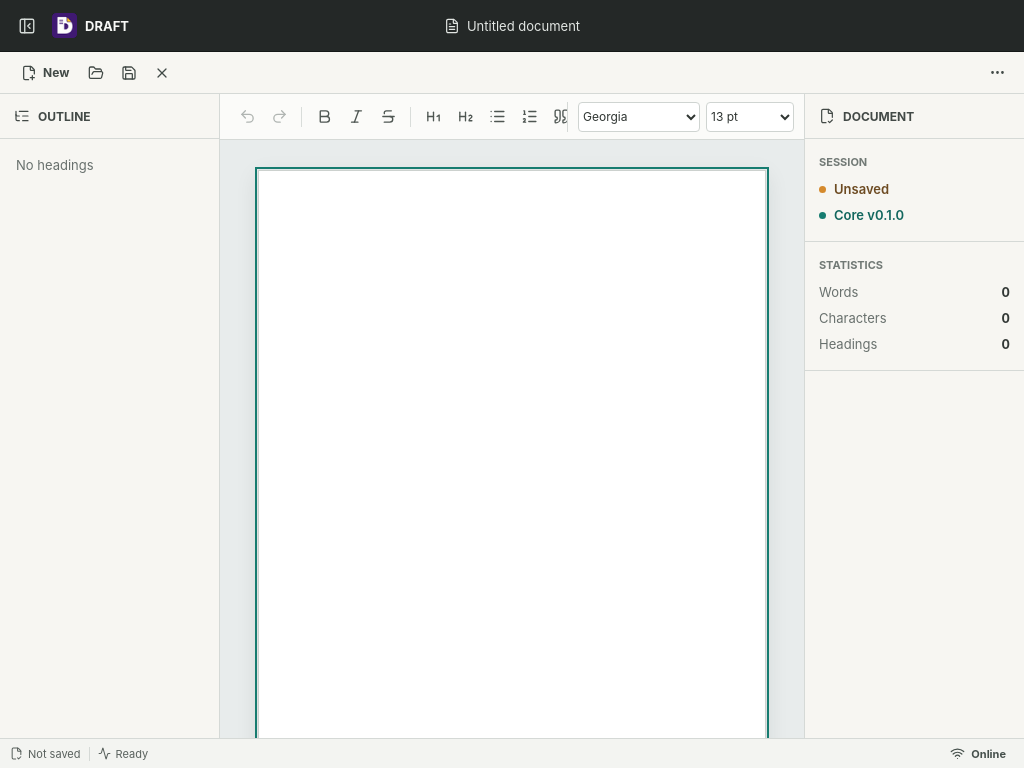
Test case: Phase 46 visible workflows › protects unsaved work with keyboard-contained recovery choices
Click the button named "Heading 2": point(465, 116) [450, 102, 480, 132]
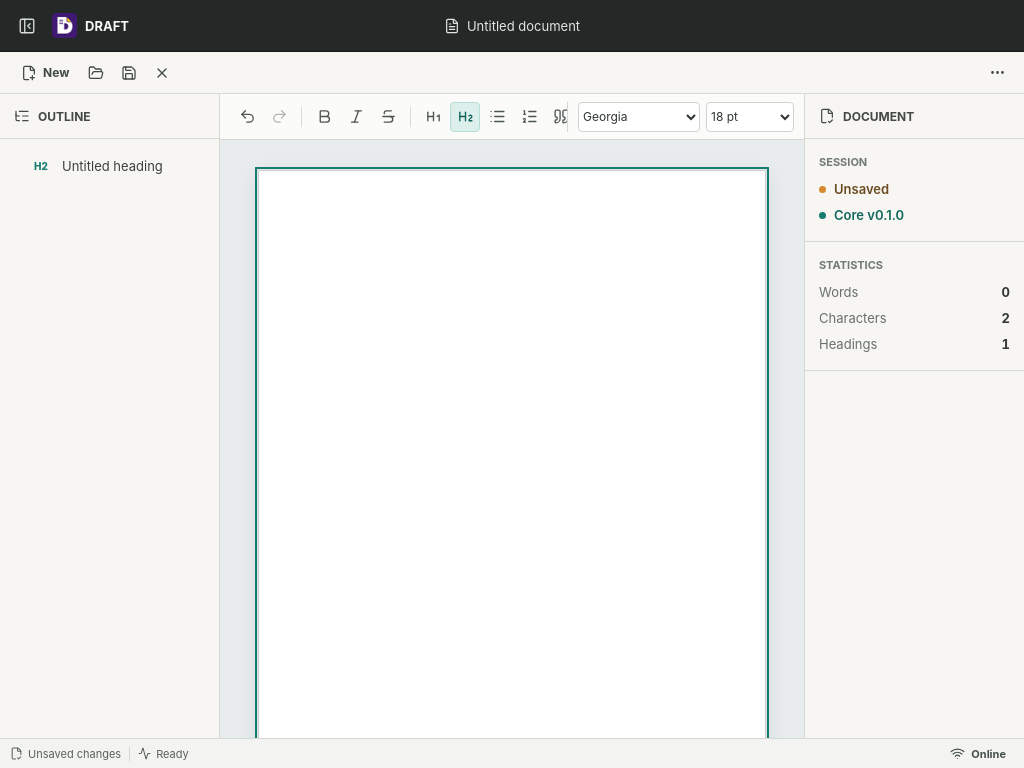
Click the button named "Open…": point(96, 72) [81, 58, 111, 88]
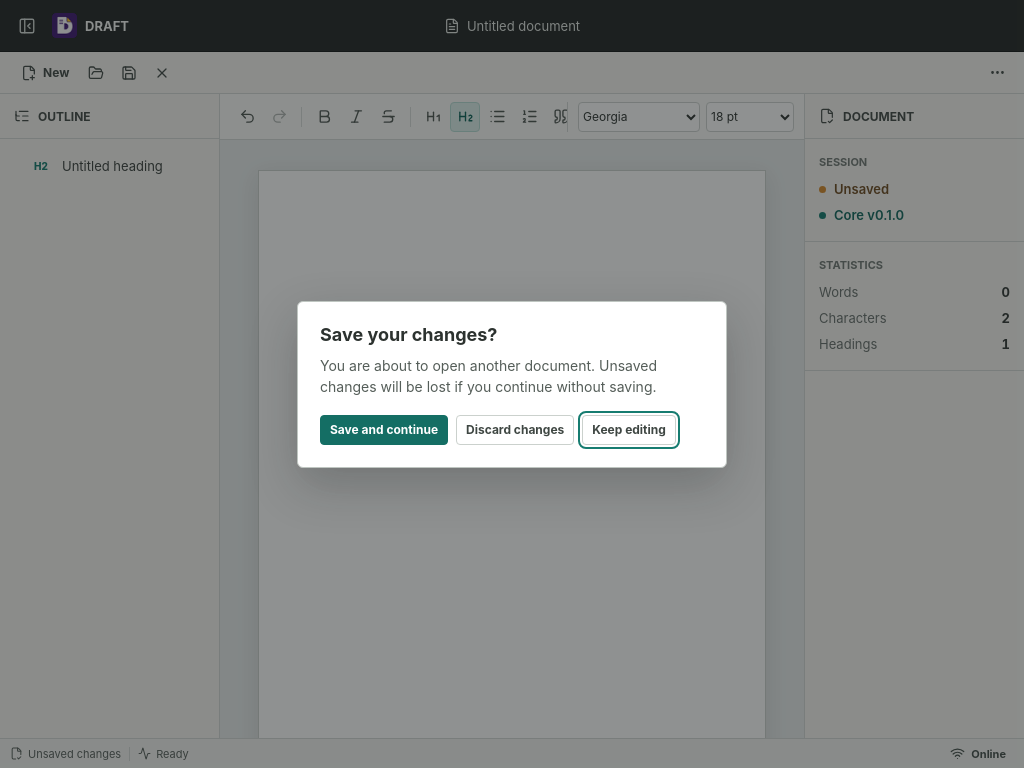
Press Tab
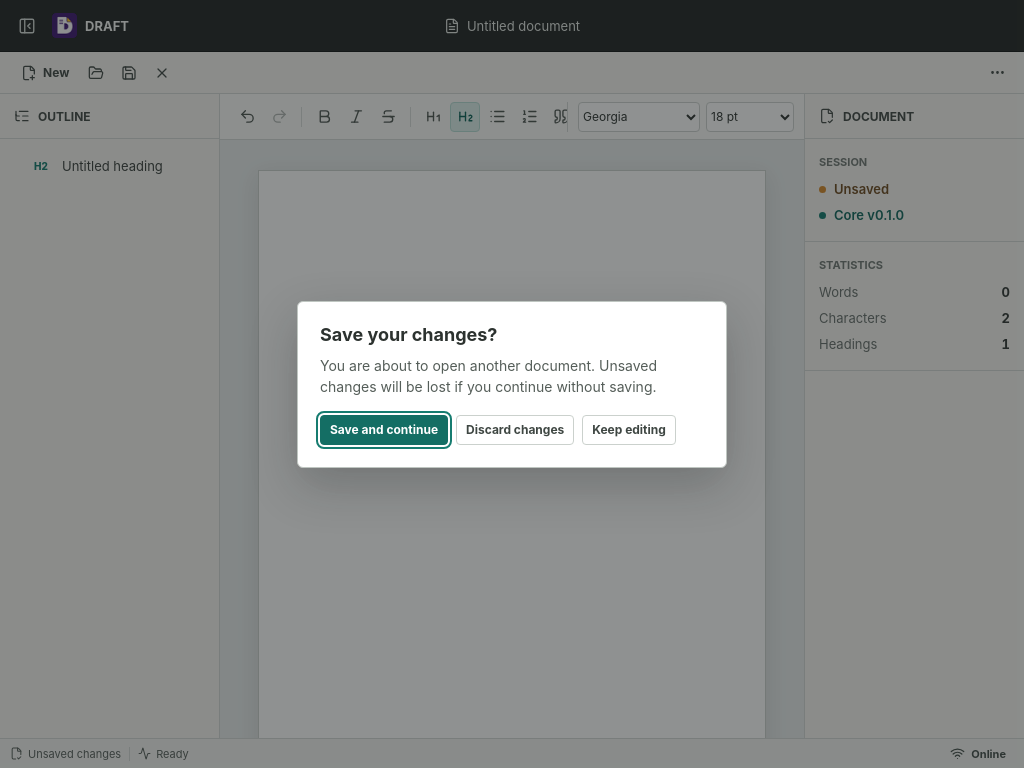
Press Escape
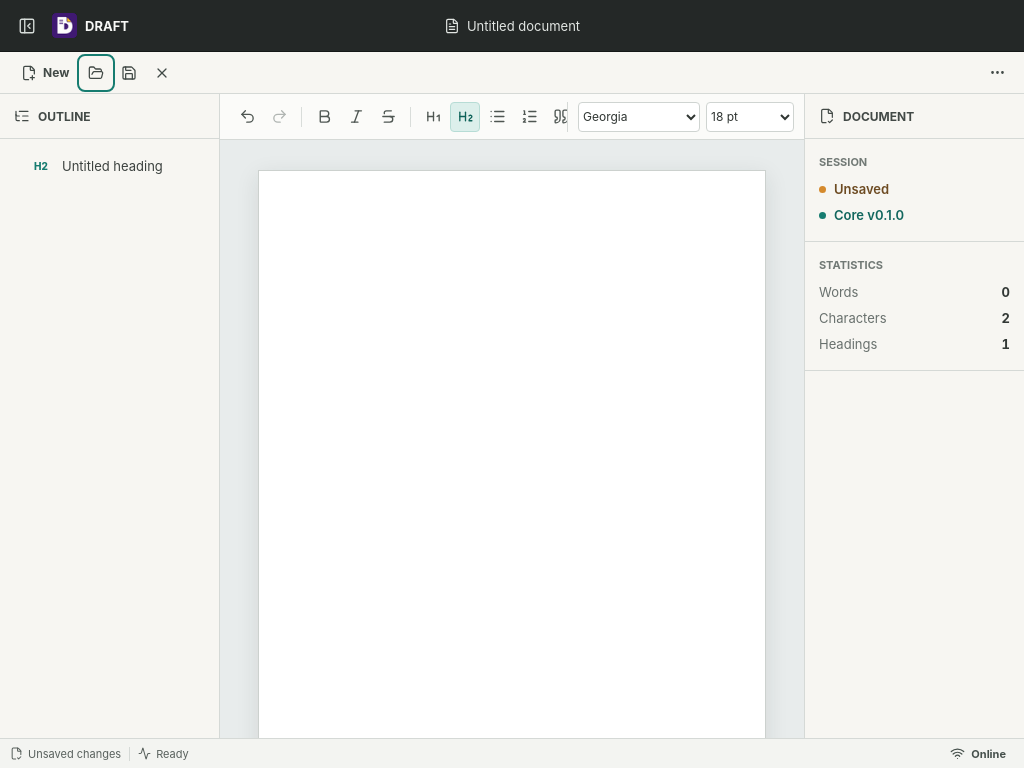
Now the dialog is gone
